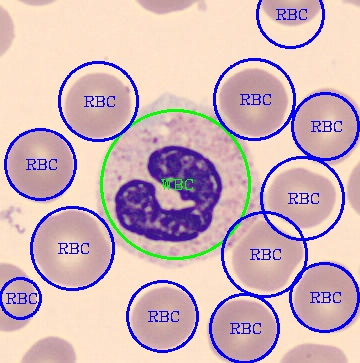RBC: (30, 208, 111, 288), (6, 126, 75, 205), (291, 86, 359, 166), (230, 219, 304, 291), (218, 64, 289, 137), (293, 258, 359, 333), (204, 297, 279, 362), (62, 70, 131, 139), (267, 166, 338, 230), (129, 285, 198, 350), (0, 259, 37, 332)
WBC: (95, 92, 263, 267)
